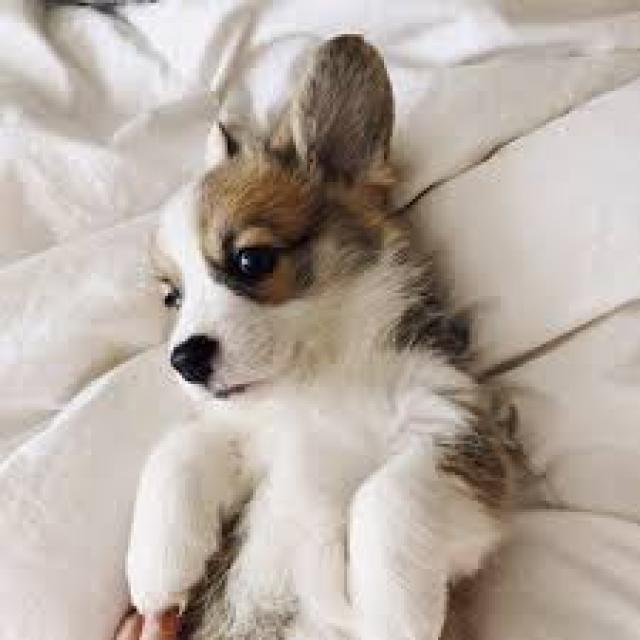CORGI: (96, 50, 509, 640)
